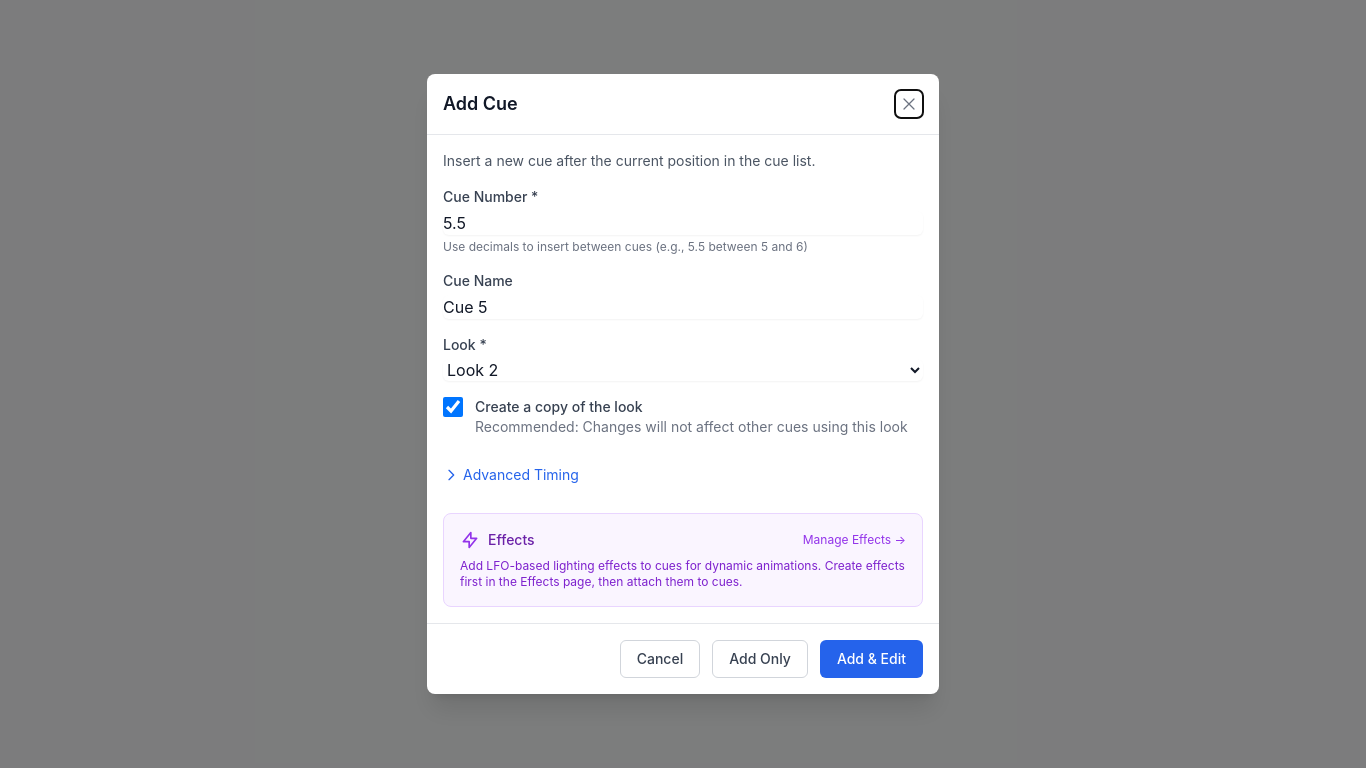
Scenario: AddCueDialog › Validation › shows error for invalid cue number
Replace the text in the number field labelled "Cue Number *" with "-5" at (683, 223), box [443, 211, 923, 235]
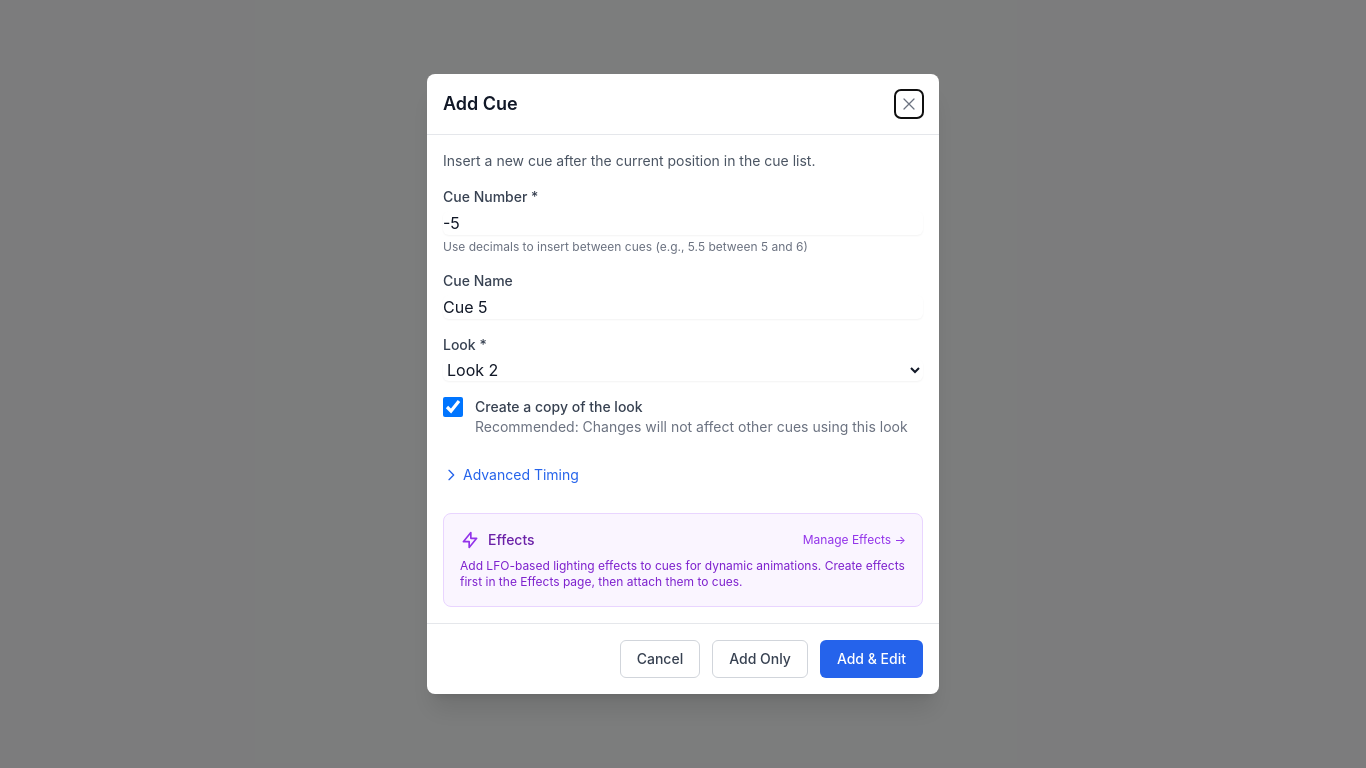
Click the button "Add & Edit" at (871, 659), box [820, 640, 923, 678]
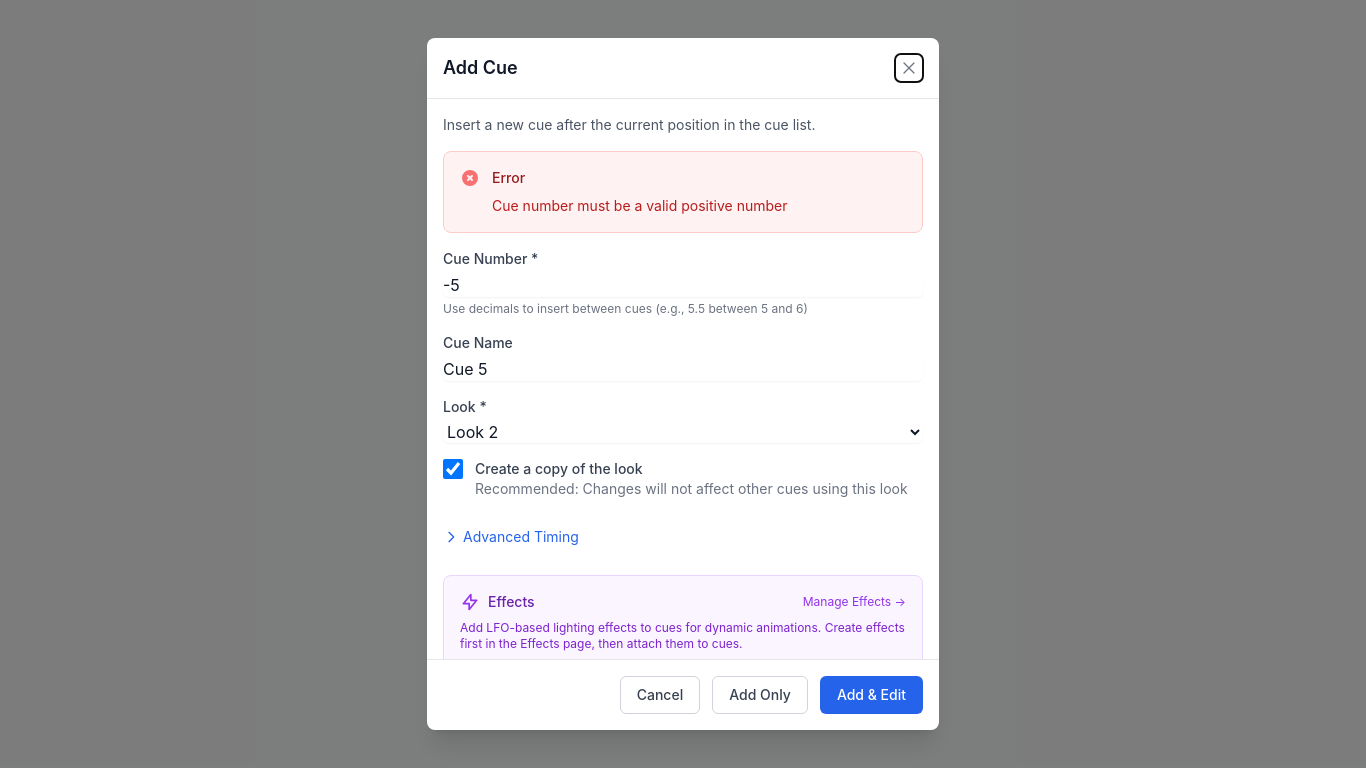
Expected: the text "Cue number must be a valid positive number" is shown, [492, 196, 788, 216]
